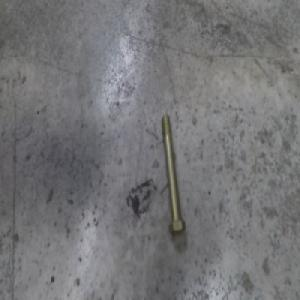Bolt: (163, 110, 189, 232)
